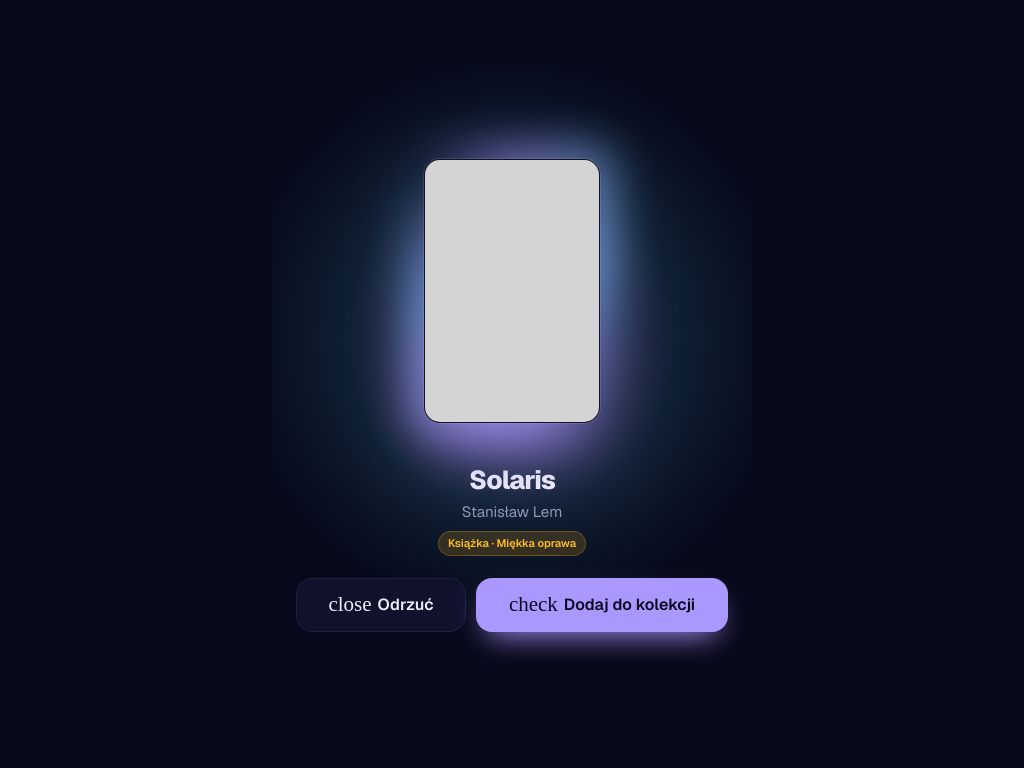
AddScreen › opens the reject sheet with rescan and text search options
Earlier steps of the test are not shown.
Click the button "Odrzuć" at (381, 605), box [296, 578, 466, 632]
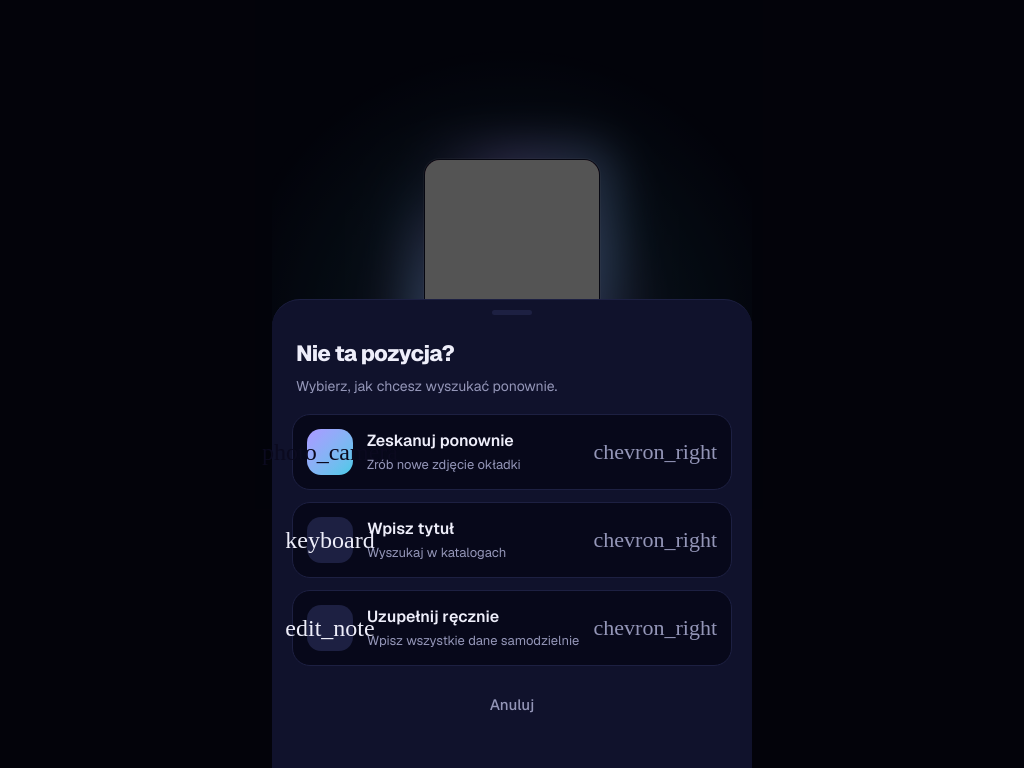
Expected: the dialog "Nie ta pozycja?" is shown, [272, 299, 752, 767]
Expected: the button "Zeskanuj ponownie Zrób nowe zdjęcie okładki" is shown, [292, 414, 732, 490]
Click the button "Wpisz tytuł Wyszukaj w katalogach" at (330, 540), box [292, 502, 732, 578]
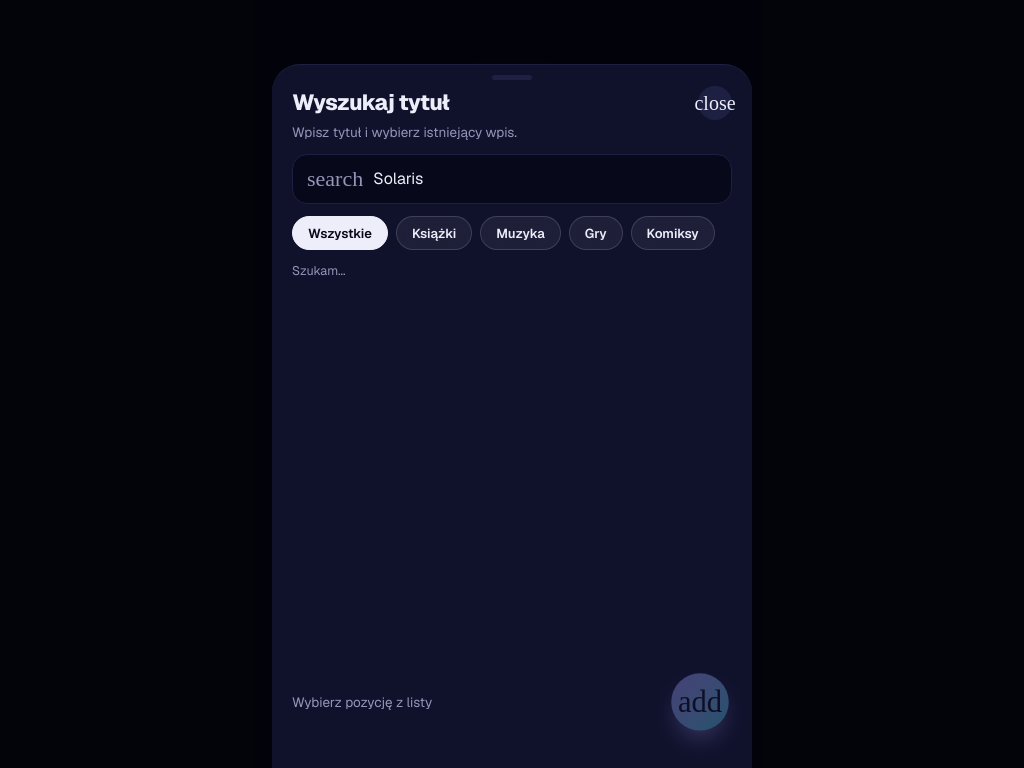
Expected: the dialog "Wyszukaj tytuł" is shown, [272, 64, 752, 767]
Now the search field named "Tytuł lub twórca" holds "Solaris", box [373, 167, 717, 191]
